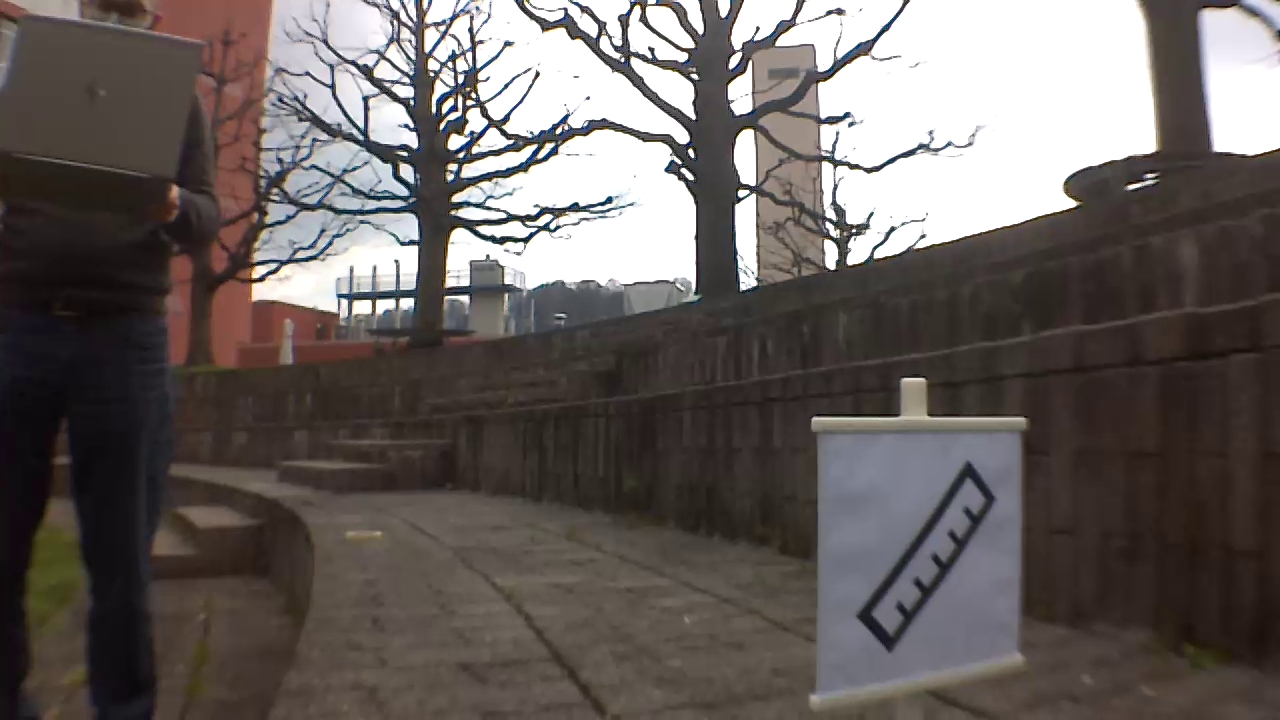ruler: (855, 456, 1003, 658)
